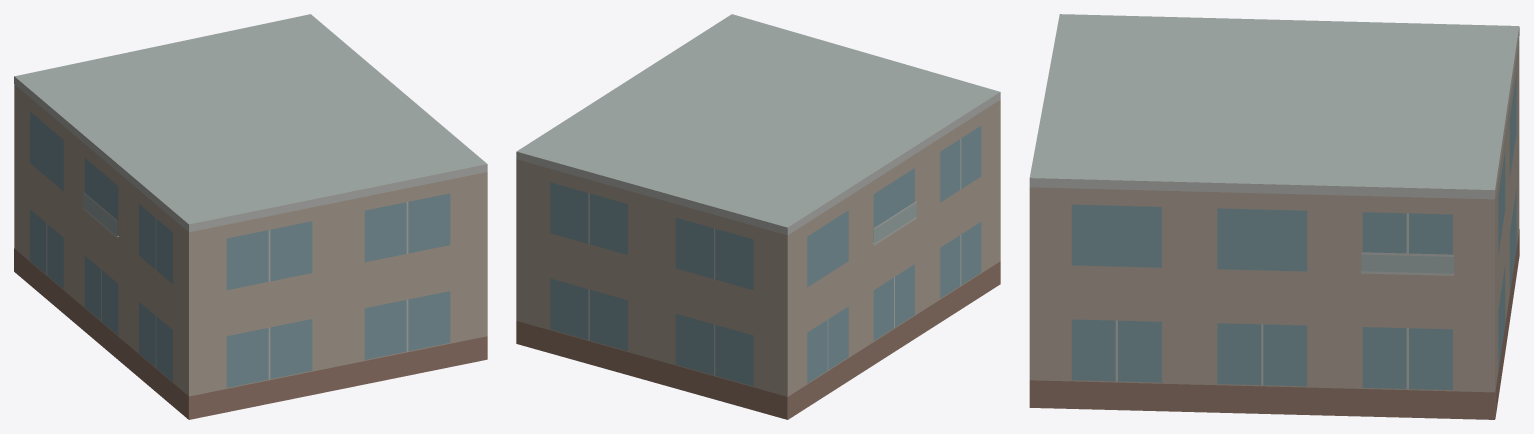
File: survey-upis-32803815.glb
3 views of the same model, side by side, from view 1: azimuth 30°, elevation 25°; view 2: azimuth 150°, elevation 25°; view 3: azimuth 270°, elevation 25° (orthographic). The views are drawn at different scales.
Visible parts, largest first — view 1: survey-upis-32803815.tmp; view 2: survey-upis-32803815.tmp; view 3: survey-upis-32803815.tmp.
Boxes of the visible parts, x1,y1,x2,y2 form: survey-upis-32803815.tmp: (14, 14, 487, 419); survey-upis-32803815.tmp: (516, 14, 1000, 419); survey-upis-32803815.tmp: (1029, 14, 1519, 419).
Size of the model in its own units: 10.04 by 6.1 by 11.8.
